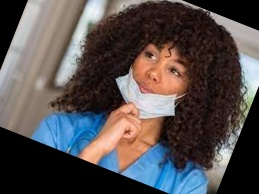mask_weared_incorrect: (119, 33, 193, 121)
